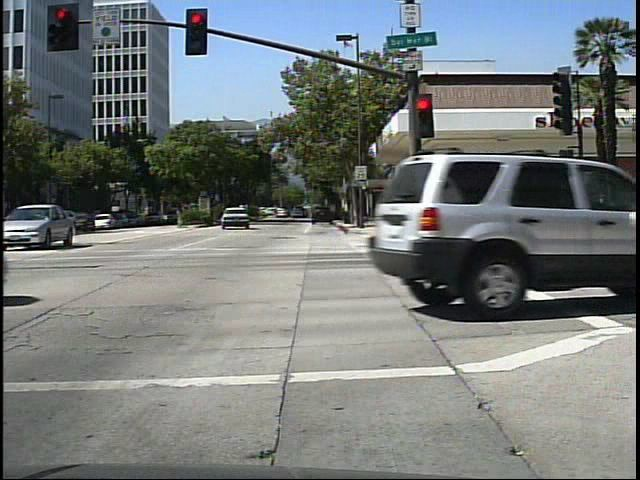person: (271, 205, 283, 223)
